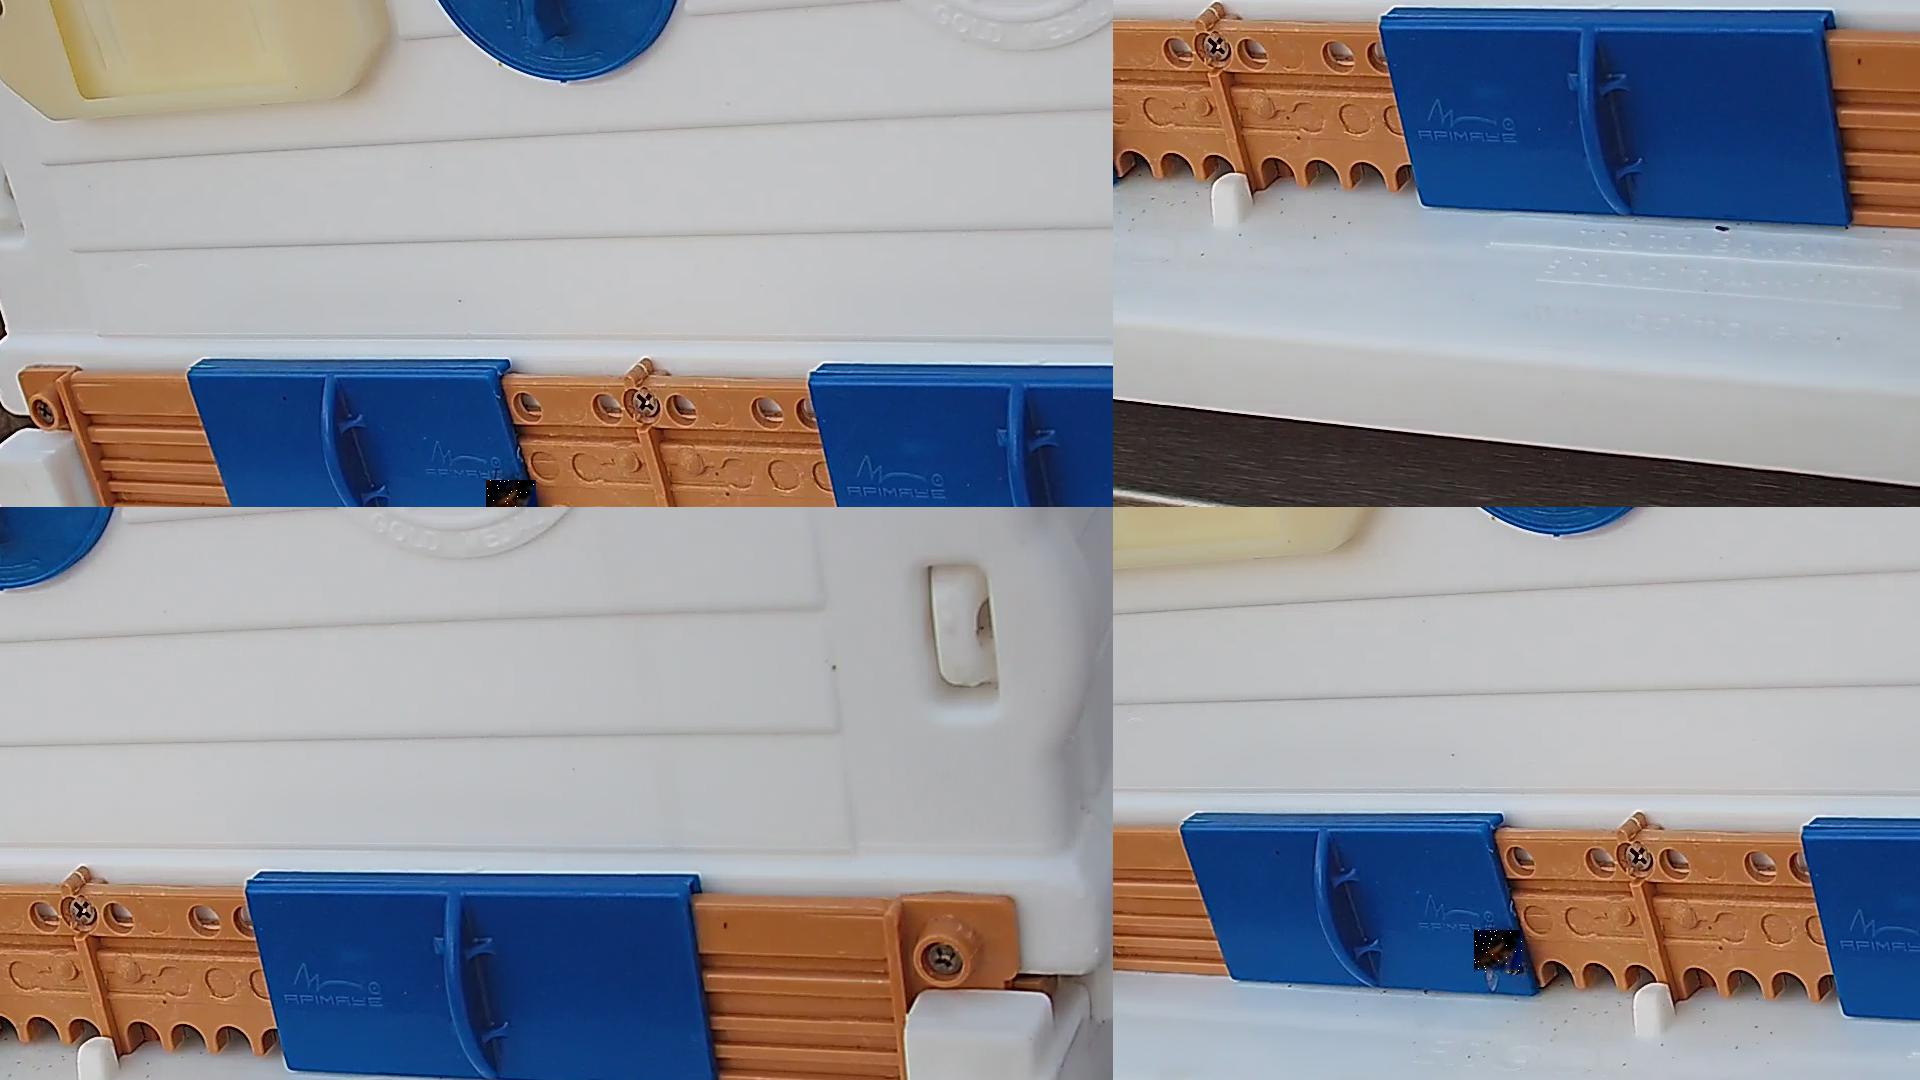bee: (1474, 931, 1523, 975), (487, 480, 538, 506)
